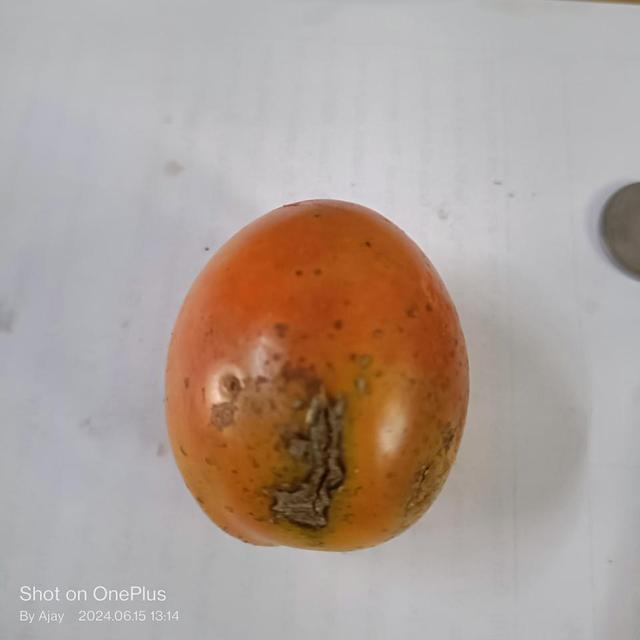Bacterial Spot Fruit: (175, 243, 231, 362)
